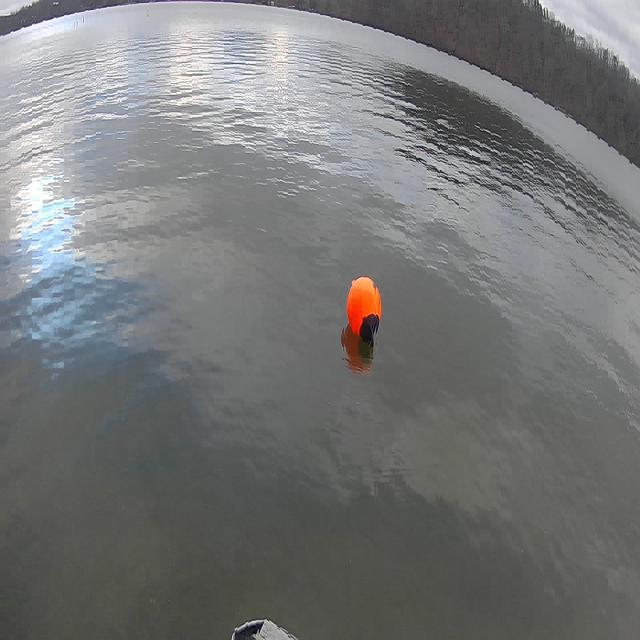Buoy: (344, 267, 387, 348)
